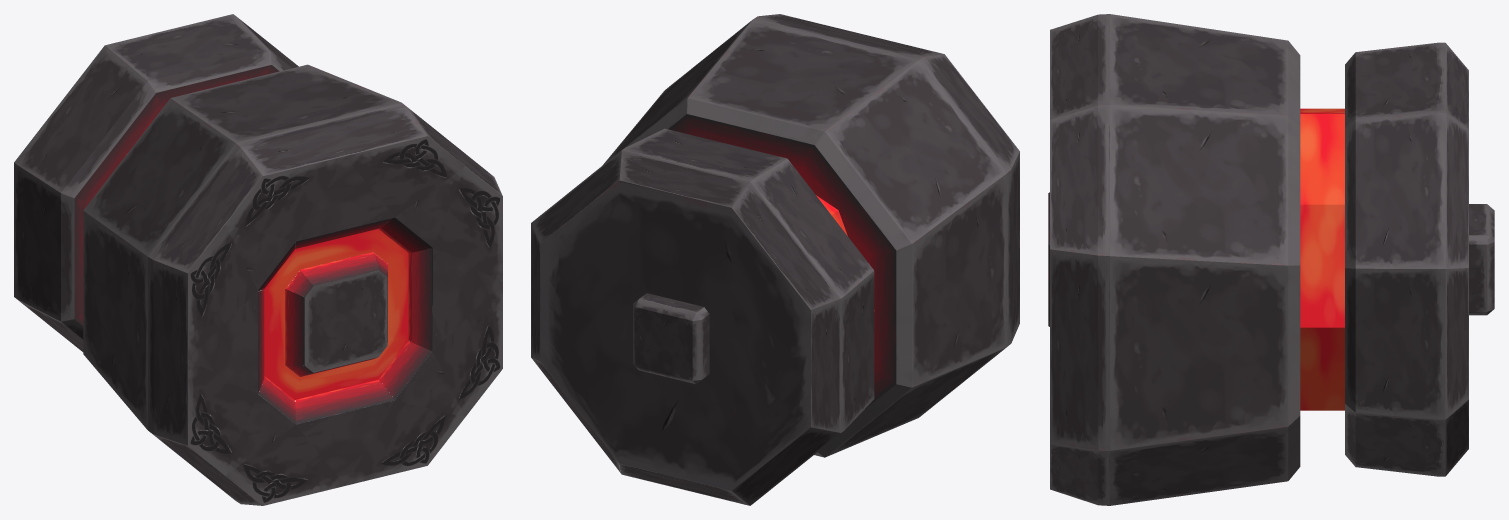
Rendered from magnet_electrical.obj.
The picture shows the model from 3 angles, left to right: view 1: azimuth 30°, elevation 25°; view 2: azimuth 150°, elevation 25°; view 3: azimuth 270°, elevation 25°; orthographic projection. The views are drawn at different scales.
Visible parts, largest first — view 1: electrical-magnet; view 2: electrical-magnet; view 3: electrical-magnet.
Boxes of the visible parts, bbox=[...] form: electrical-magnet: bbox=[14, 14, 502, 505]; electrical-magnet: bbox=[531, 14, 1019, 505]; electrical-magnet: bbox=[1048, 14, 1494, 505].
Size of the model in its own units: 1.96 by 1.96 by 1.98.
